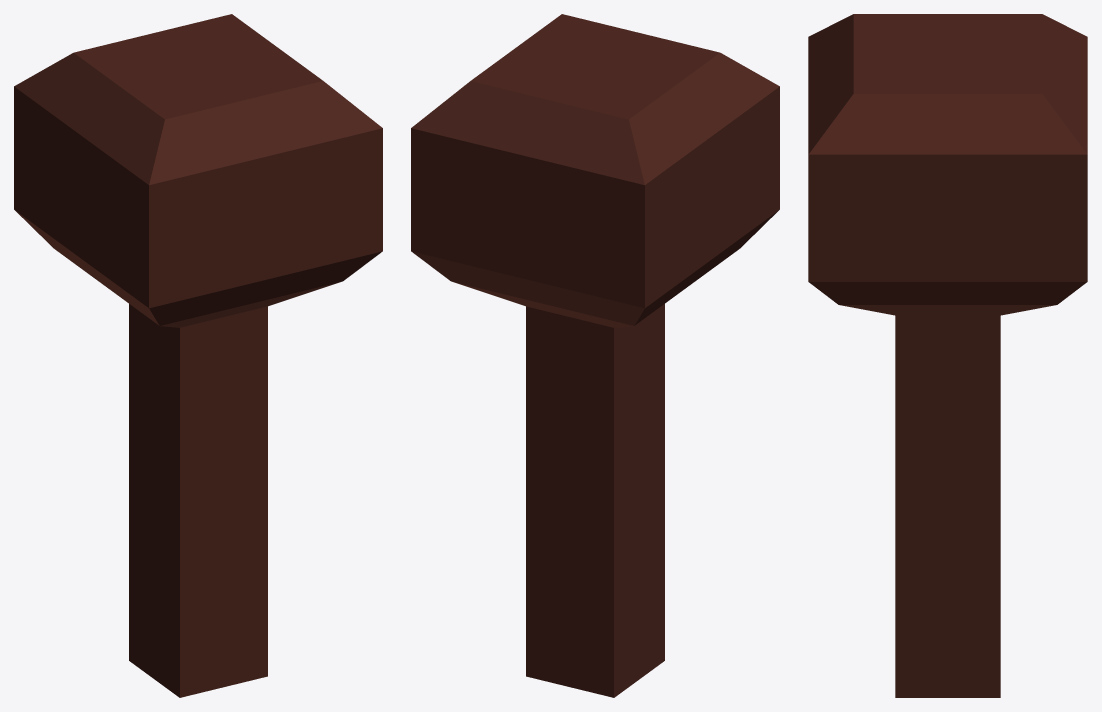
File: basicThree2.glb
3 views of the same model, side by side, from view 1: azimuth 30°, elevation 25°; view 2: azimuth 150°, elevation 25°; view 3: azimuth 270°, elevation 25° (orthographic). The views are drawn at different scales.
Parts seen in each view (by area): view 1: Cube; view 2: Cube; view 3: Cube.
Part boxes in pixels (left/top/right/bottom): Cube: left=14, top=14, right=382, bottom=697; Cube: left=411, top=14, right=779, bottom=697; Cube: left=808, top=14, right=1087, bottom=697.
Size of the model in its own units: 2.76 by 6.79 by 2.76.
